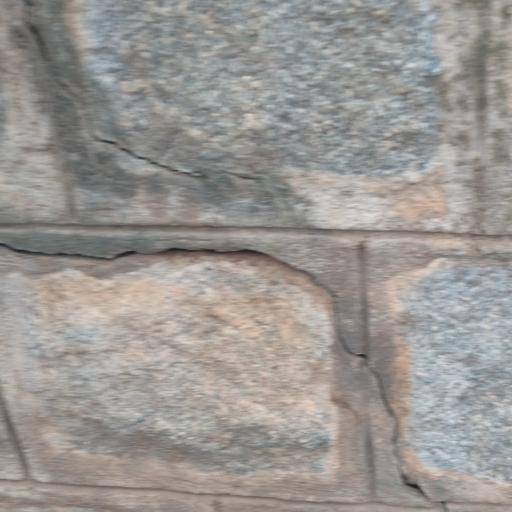minor_crack: (0, 227, 469, 501), (14, 18, 279, 188)
